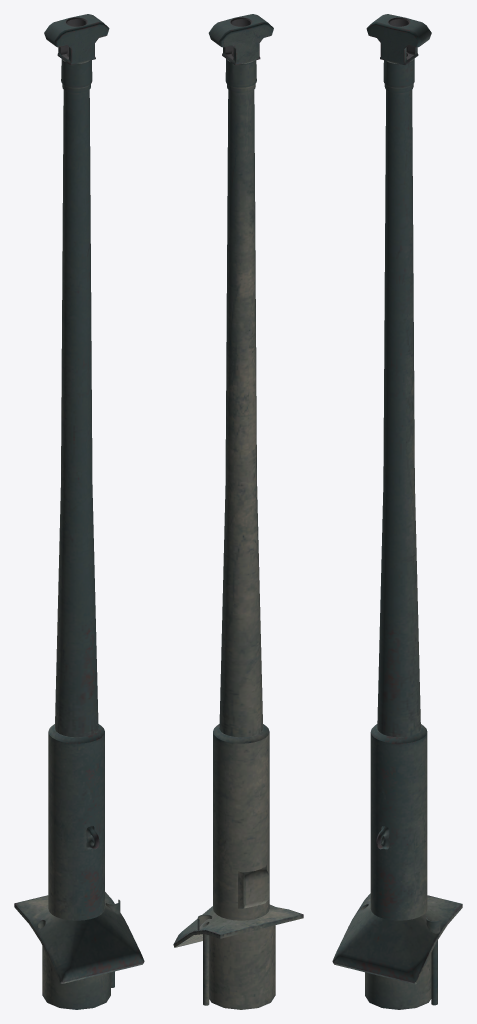
File: Gun_02.glb
3 renders of one model, left to right at view 1: azimuth 30°, elevation 25°; view 2: azimuth 210°, elevation 25°; view 3: azimuth 330°, elevation 25°, orthographic.
Parts seen in each view (by area): view 1: set_0_group_0; view 2: set_0_group_0; view 3: set_0_group_0.
Boxes of the visible parts, x1,y1,x2,y2 form: set_0_group_0: (14, 14, 144, 1009); set_0_group_0: (173, 14, 303, 1009); set_0_group_0: (332, 14, 462, 1009).
Bounding box in the file's own units: 0.7057 × 7.87 × 0.7.
Materials: 1 (1 with a texture image).
